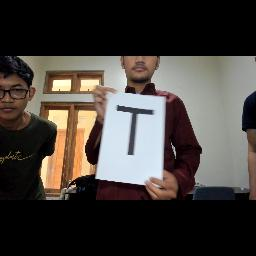t: (112, 102, 158, 158)
